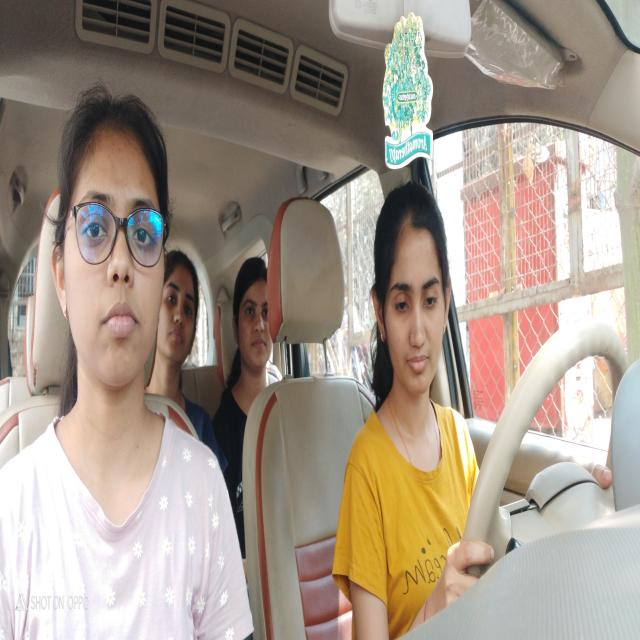person: (49, 87, 168, 398), (370, 192, 460, 398), (229, 256, 282, 373), (163, 249, 200, 391)
